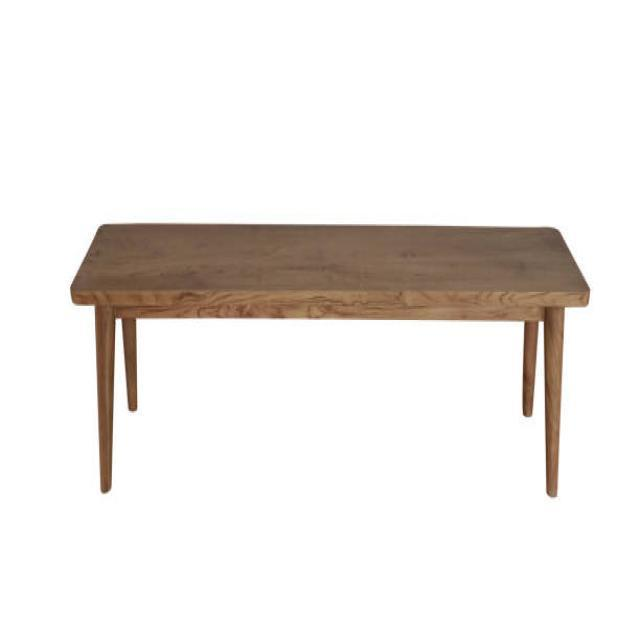table: (69, 221, 590, 497)
